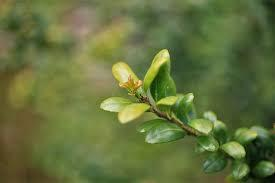ylang-ylang: (103, 50, 166, 121)
